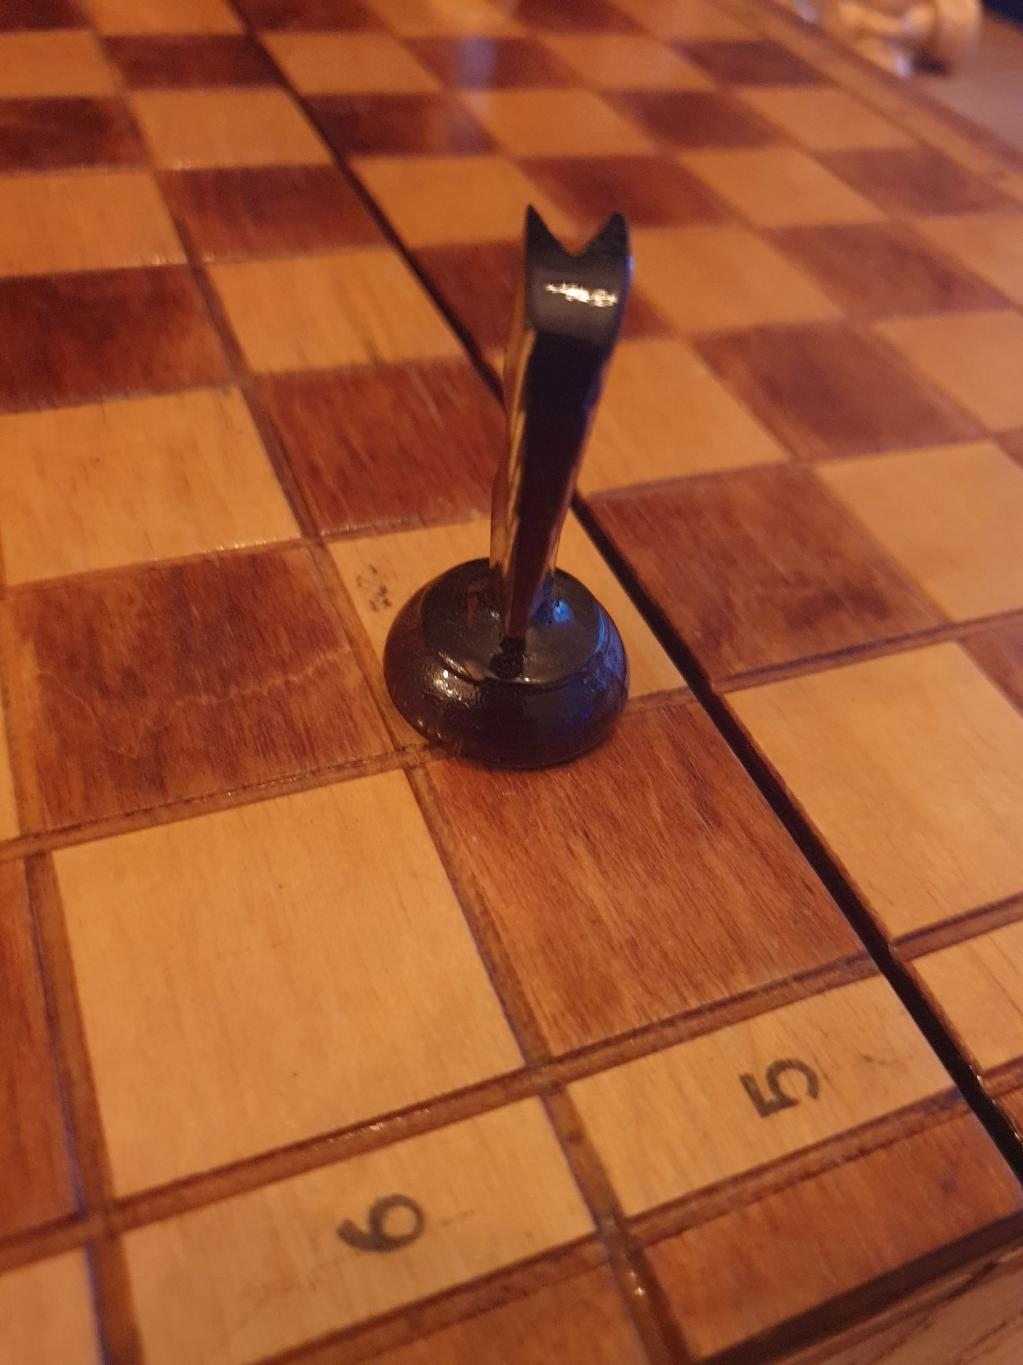bknight: (383, 200, 638, 771)
